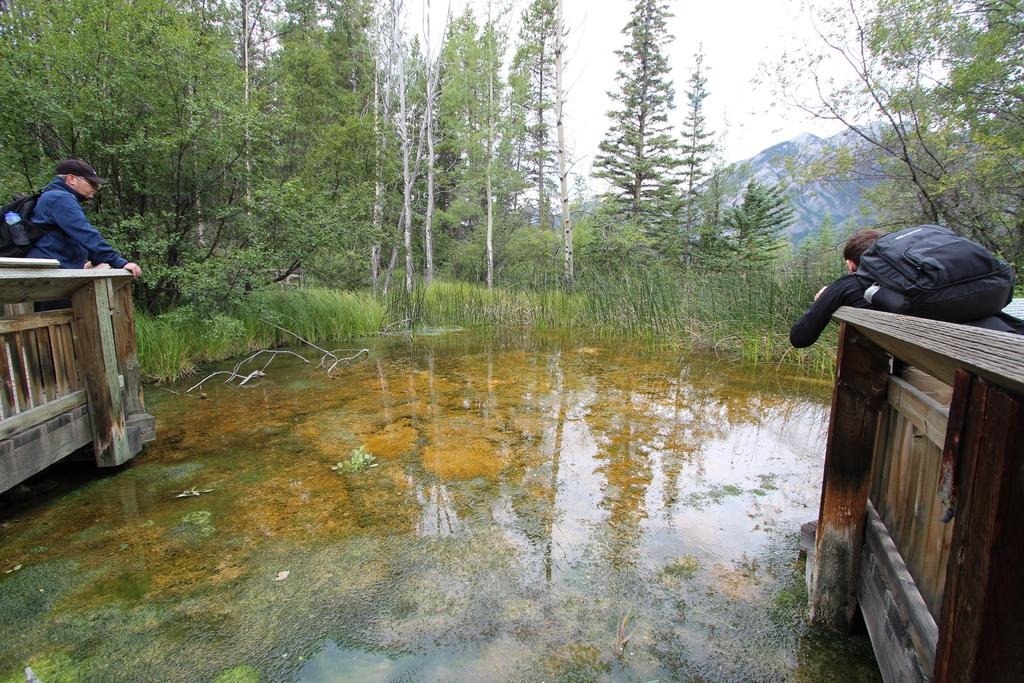Luggage-and-bags: (845, 219, 1021, 320), (0, 189, 74, 256)
